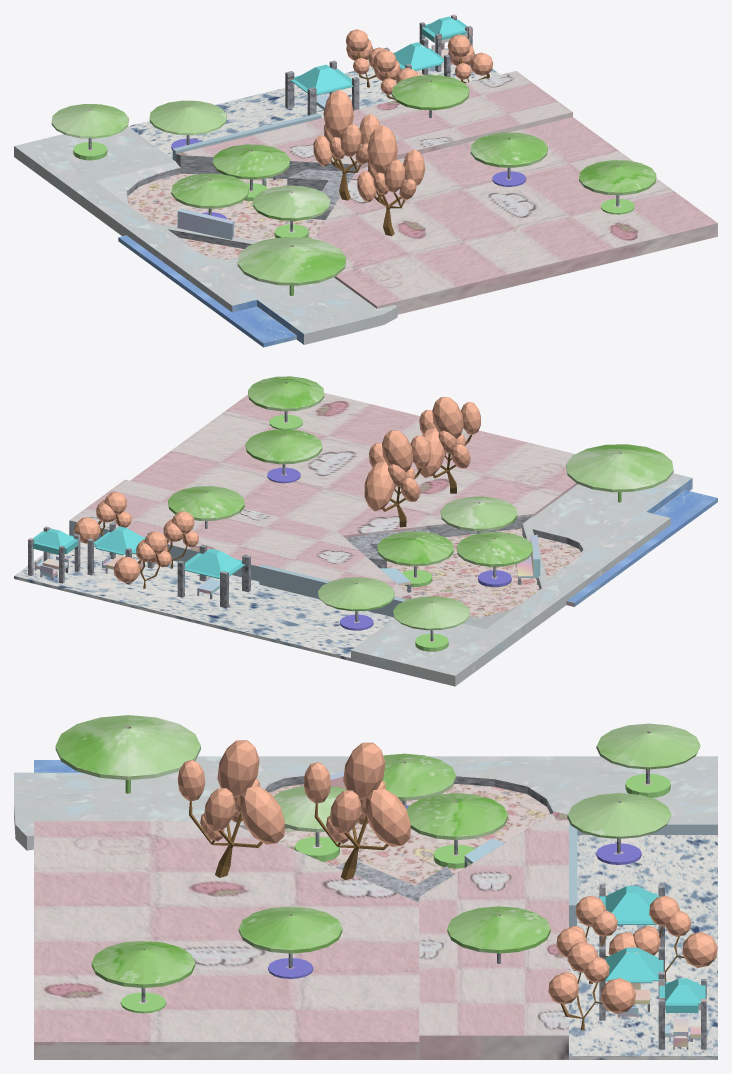
The model's file is final park.fbx.
3 renders of one model, top to bottom at view 1: azimuth 30°, elevation 25°; view 2: azimuth 150°, elevation 25°; view 3: azimuth 270°, elevation 25°, orthographic. The views are drawn at different scales.
Parts seen in each view (by area): view 1: town square, b for tree 5, b for tree 2, b for tree 1, b for tree 3, b for tree 4; view 2: town square, b for tree 2, b for tree 5, b for tree 4, b for tree 1, b for tree 3; view 3: town square, b for tree 2, b for tree 5, b for tree 1, b for tree 4, b for tree 3, tree 5, tree 2.
Boxes of the visible parts, x1=… form: town square: x1=14, y1=14, x2=717, y2=347; b for tree 5: x1=357, y1=125, x2=425, y2=201; b for tree 2: x1=313, y1=89, x2=380, y2=166; b for tree 1: x1=447, y1=34, x2=493, y2=79; b for tree 3: x1=373, y1=49, x2=417, y2=94; b for tree 4: x1=345, y1=29, x2=386, y2=74; town square: x1=14, y1=376, x2=717, y2=686; b for tree 2: x1=364, y1=430, x2=430, y2=511; b for tree 5: x1=416, y1=397, x2=480, y2=477; b for tree 4: x1=113, y1=531, x2=171, y2=582; b for tree 1: x1=74, y1=492, x2=131, y2=543; b for tree 3: x1=149, y1=511, x2=198, y2=562; town square: x1=14, y1=715, x2=717, y2=1059; b for tree 2: x1=303, y1=742, x2=410, y2=846; b for tree 5: x1=177, y1=740, x2=284, y2=844; b for tree 1: x1=548, y1=941, x2=635, y2=1013; b for tree 4: x1=633, y1=895, x2=717, y2=967; b for tree 3: x1=556, y1=895, x2=636, y2=957; tree 5: x1=189, y1=801, x2=262, y2=877; tree 2: x1=314, y1=803, x2=388, y2=880.
Size of the model in its own units: 85567 by 21769 by 86481.
Materials: 3 (1 with a texture image).
